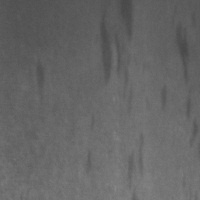inclusion: (162, 8, 198, 149), (110, 1, 144, 118), (92, 6, 116, 89), (124, 129, 147, 198), (27, 54, 52, 114), (155, 78, 173, 115), (79, 147, 97, 177)
